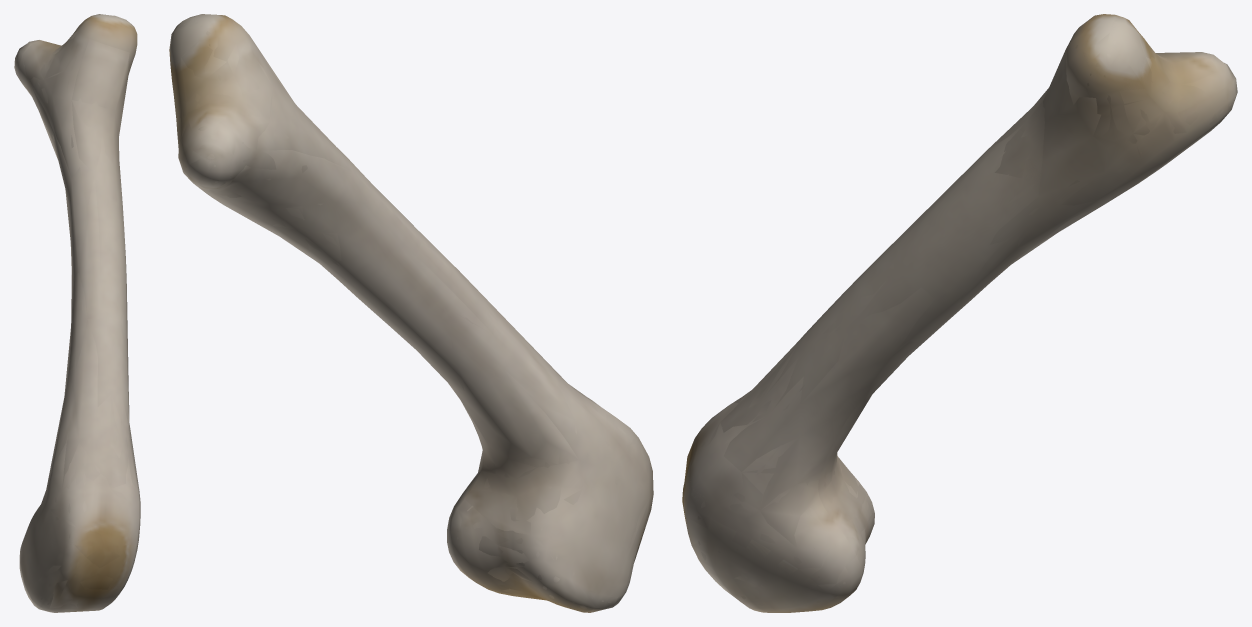
The model's file is R Femur.fbx.
3 renders of one model, left to right at view 1: azimuth 30°, elevation 25°; view 2: azimuth 150°, elevation 25°; view 3: azimuth 270°, elevation 25°, orthographic. The views are drawn at different scales.
Visible parts, largest first — view 1: R Femur, R Femur low, R Femur high; view 2: R Femur low, R Femur, R Femur high; view 3: R Femur, R Femur low, R Femur high.
Boxes of the visible parts, box(x1,y1,x2,y2) form: R Femur: box(14, 14, 140, 612); R Femur low: box(15, 14, 139, 611); R Femur high: box(17, 21, 138, 612); R Femur low: box(170, 17, 650, 606); R Femur: box(169, 14, 653, 612); R Femur high: box(170, 17, 644, 610); R Femur: box(682, 14, 1237, 612); R Femur low: box(683, 17, 1235, 597); R Femur high: box(685, 17, 1232, 610).
Bounding box in the file's own units: 6 × 12.71 × 9.41.
